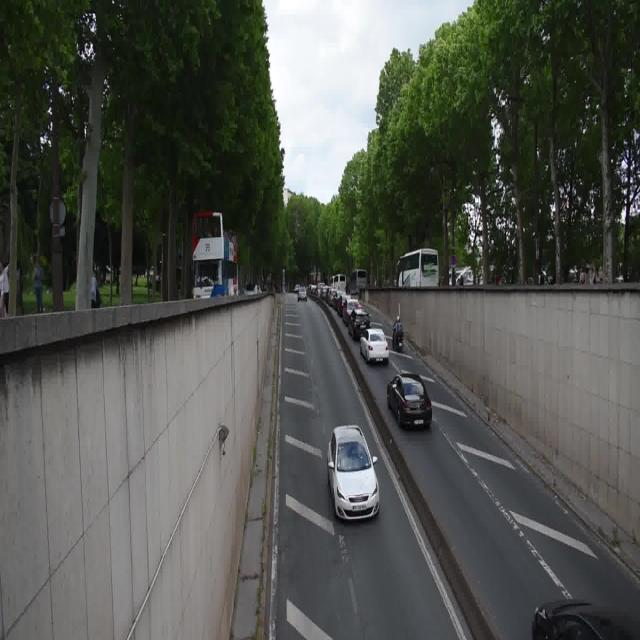Bus: (188, 200, 242, 300), (392, 242, 446, 294)
Car: (323, 422, 385, 524), (386, 366, 432, 429), (360, 321, 390, 366), (345, 293, 367, 340), (326, 287, 347, 314), (293, 282, 311, 310)
Motorcycle: (391, 310, 408, 356)
